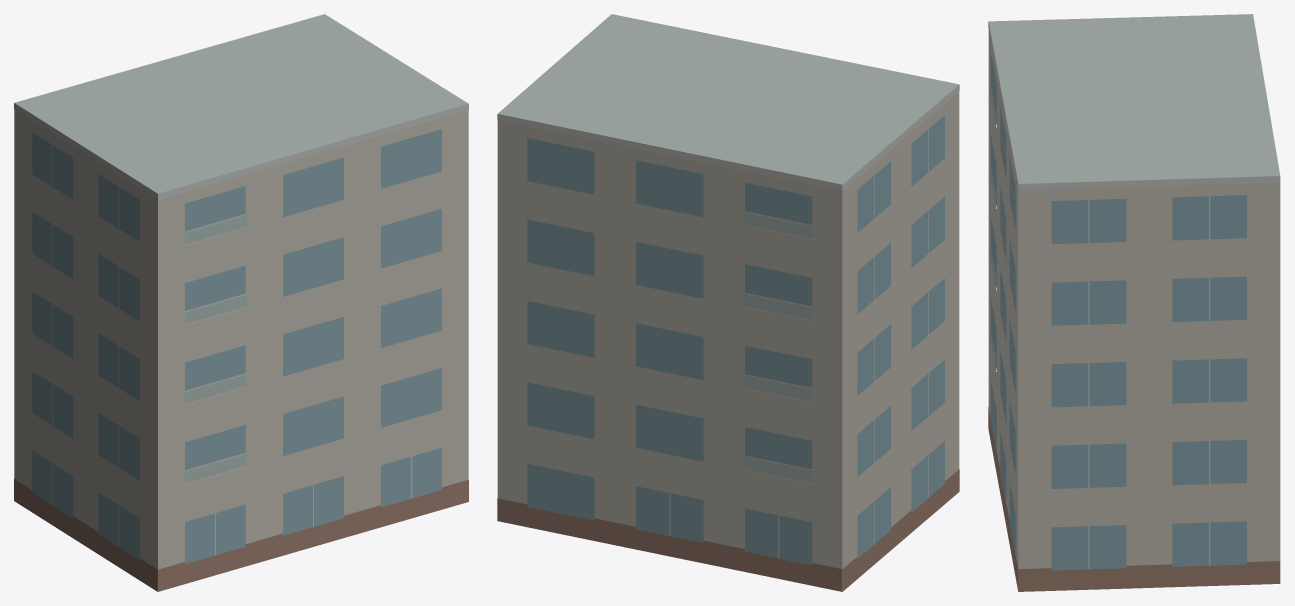
File: survey-upis-32735130.glb
The picture shows the model from 3 angles, left to right: view 1: azimuth 30°, elevation 25°; view 2: azimuth 150°, elevation 25°; view 3: azimuth 270°, elevation 25°; orthographic projection. The views are drawn at different scales.
Parts seen in each view (by area): view 1: survey-upis-32735130.tmp; view 2: survey-upis-32735130.tmp; view 3: survey-upis-32735130.tmp.
Boxes of the visible parts, x1=… form: survey-upis-32735130.tmp: x1=14, y1=14, x2=468, y2=591; survey-upis-32735130.tmp: x1=497, y1=14, x2=959, y2=591; survey-upis-32735130.tmp: x1=988, y1=14, x2=1280, y2=591.
Size of the model in its own units: 13.64 by 15.25 by 9.9.
